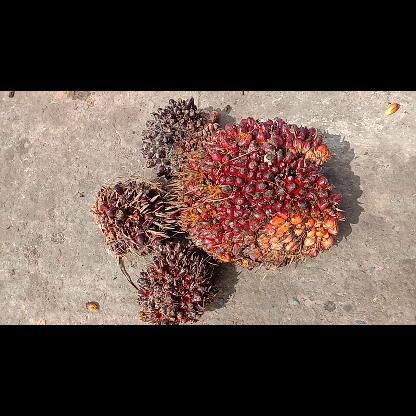TBS abnormal: (137, 94, 221, 180), (90, 176, 178, 255), (135, 240, 215, 324)
TBS masak: (166, 115, 348, 270)
